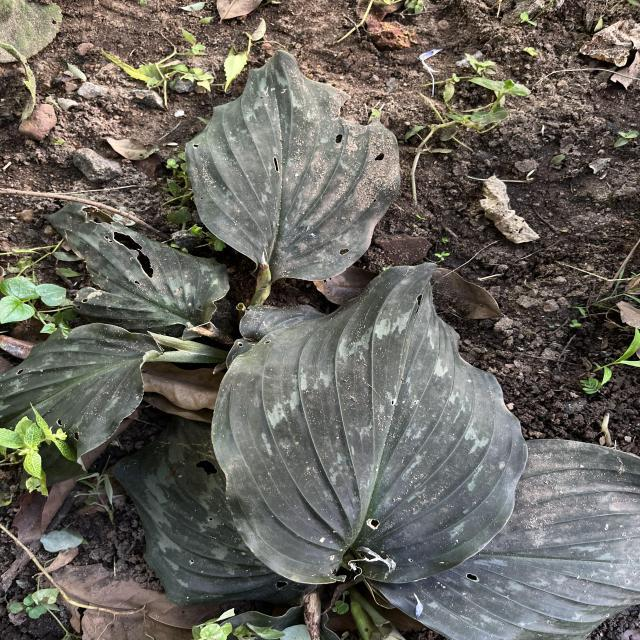Kaempferia galanga linn: (206, 256, 533, 586), (182, 48, 405, 284)
